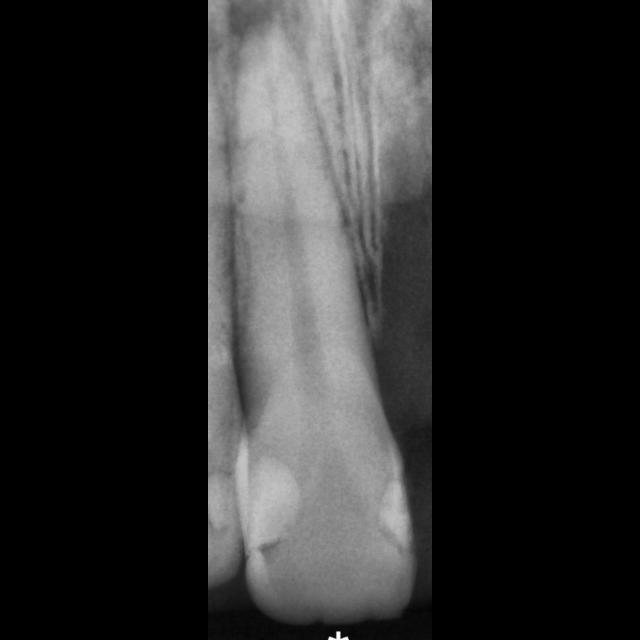tooth: (232, 19, 417, 624)
